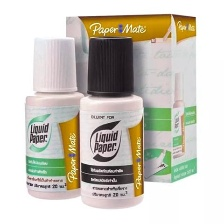book: (61, 13, 198, 184)
correction_fluid: (77, 34, 146, 211), (21, 35, 88, 201)
